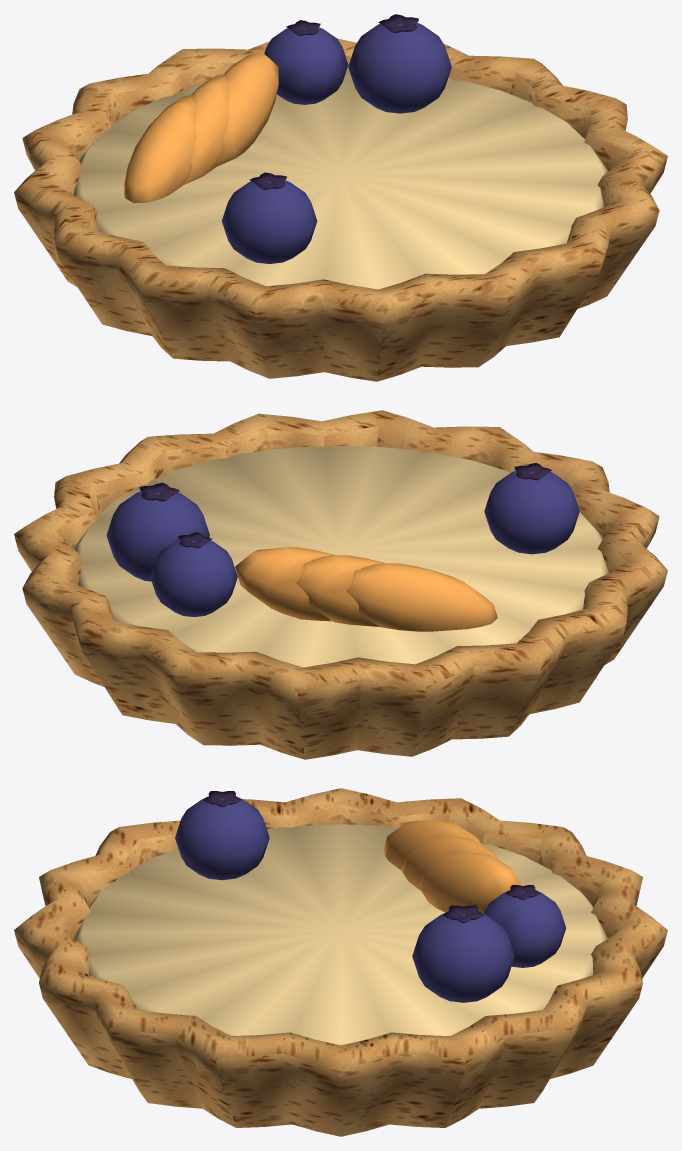
File: tart.glb
3 views of the same model, one above another, from view 1: azimuth 30°, elevation 25°; view 2: azimuth 150°, elevation 25°; view 3: azimuth 270°, elevation 25° (orthographic).
Parts seen in each view (by area): view 1: tart; view 2: tart; view 3: tart.
Boxes of the visible parts, x1,y1,x2,y2 form: tart: (14,14,667,381); tart: (14,410,667,759); tart: (14,788,667,1136).
Bounding box in the file's own units: 2 × 0.5935 × 2.
7 materials, 2 textured.
